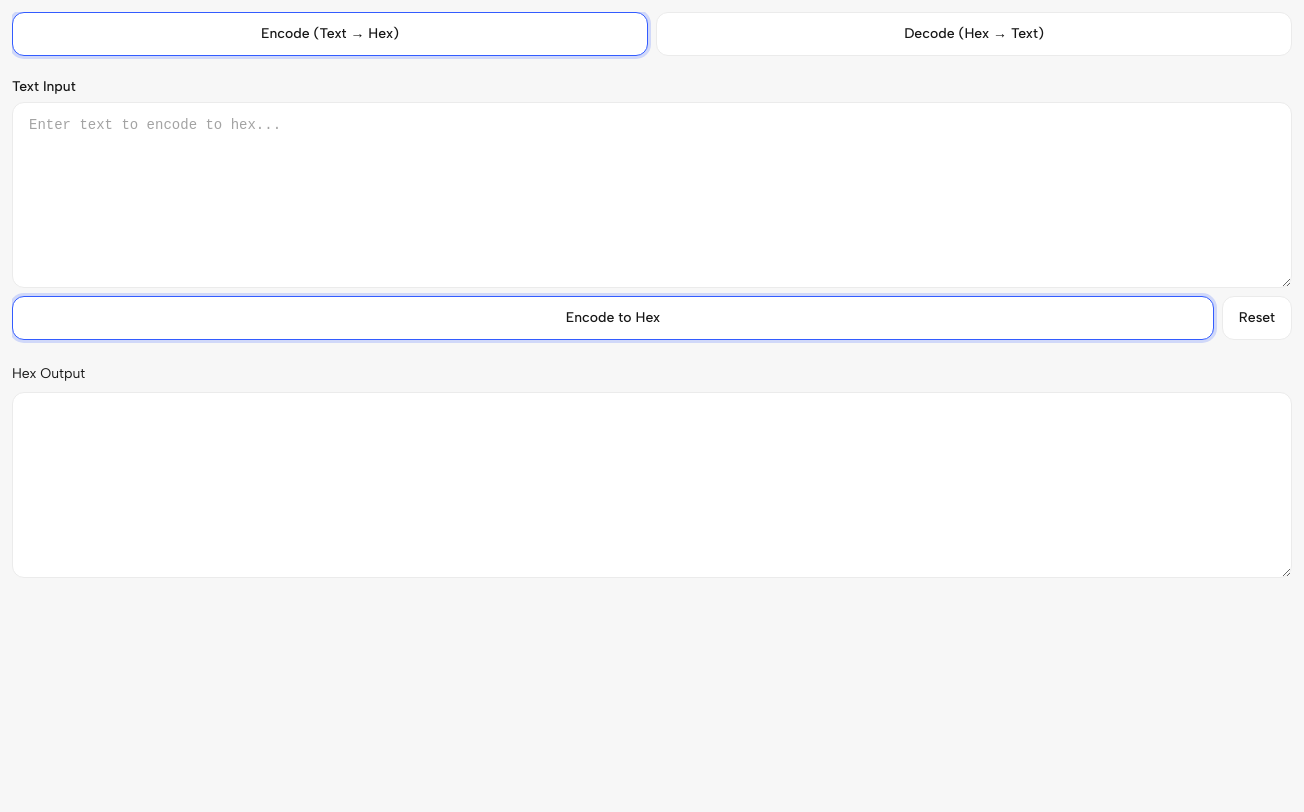
Test case: HexTextTool › encodes text to hex
This screenshot has width=1304, height=812.
Type "Hello" into the text box with placeholder "Enter text to encode to hex..." at (652, 195), box x1=12 y1=102 x2=1292 y2=288
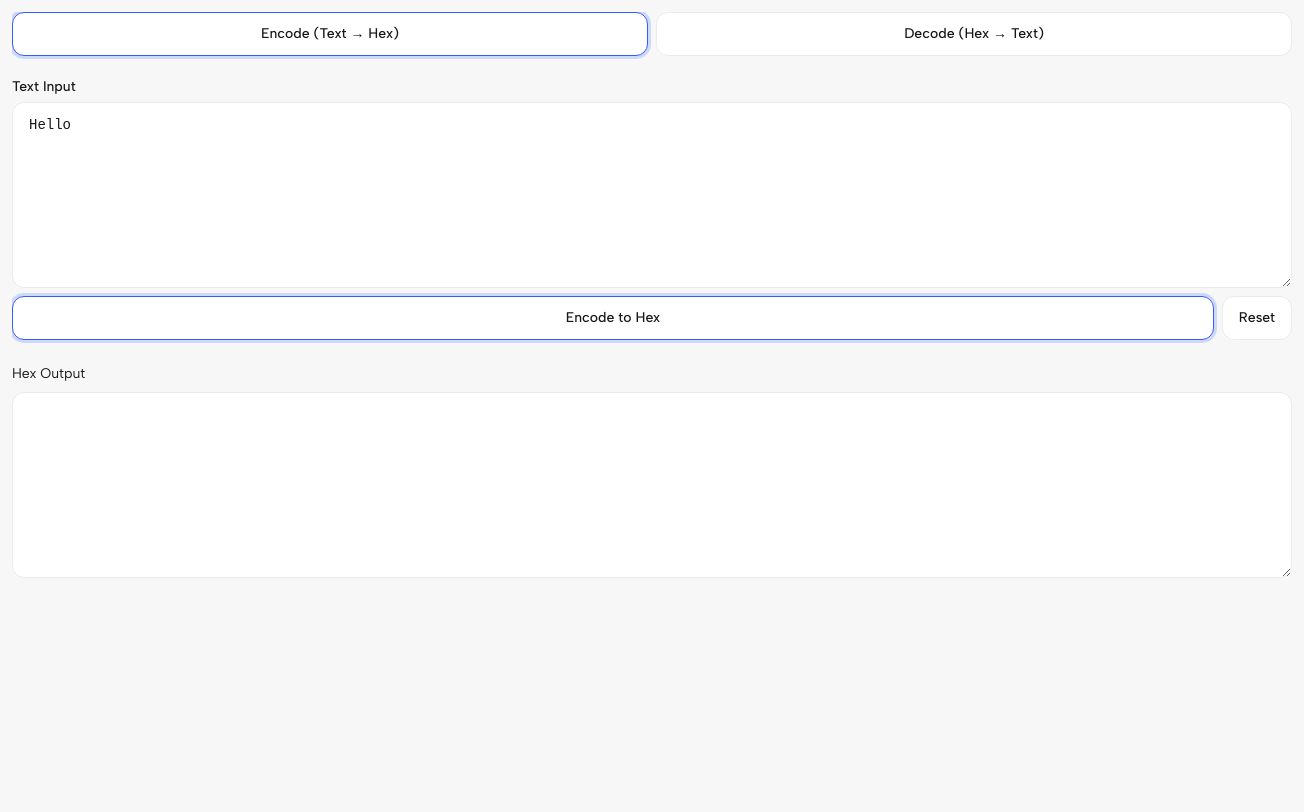
Click the button "Encode to Hex" at (613, 318), box x1=12 y1=296 x2=1214 y2=340
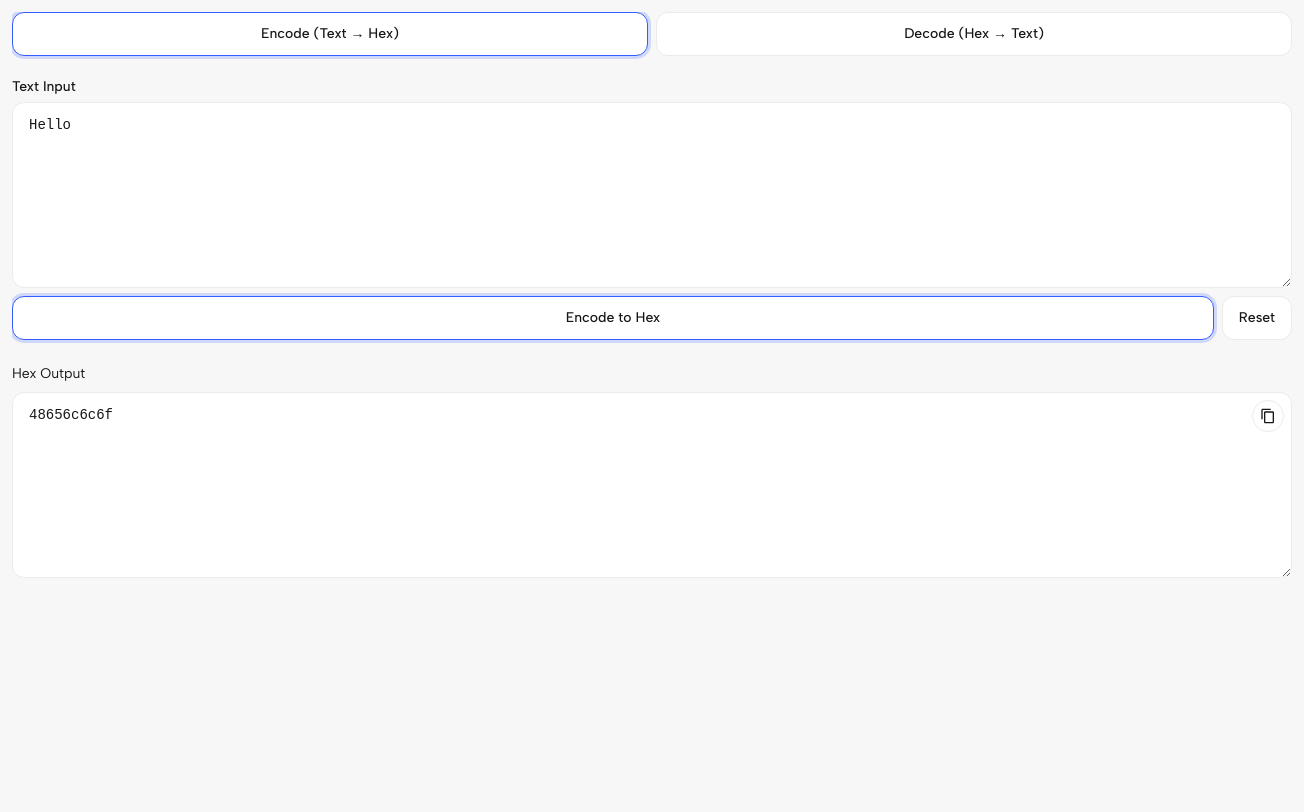
Expected: the text box below "Hex Output" holds "48656c6c6f", x1=12 y1=392 x2=1292 y2=578
